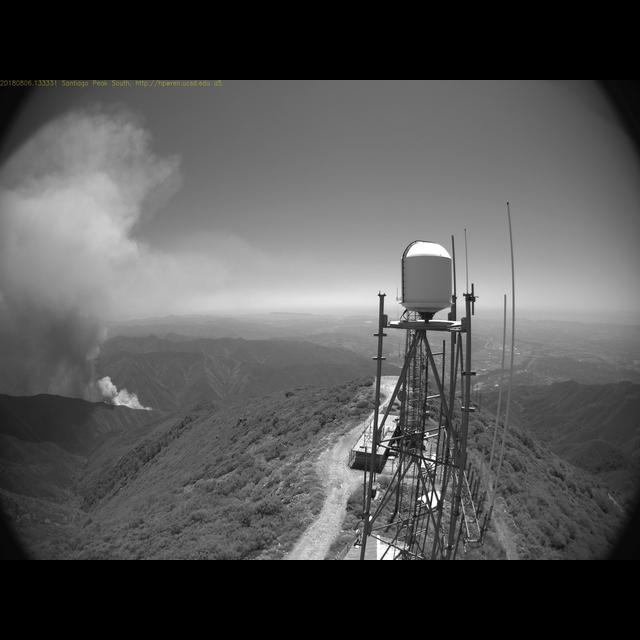Smoke: (1, 107, 151, 412)
